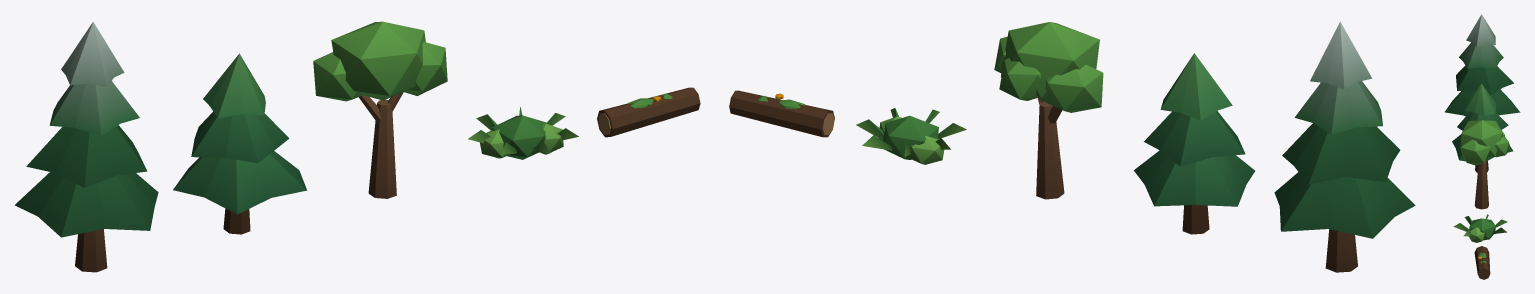
Rendered from forest_trees.glb.
3 views of the same model, side by side, from view 1: azimuth 30°, elevation 25°; view 2: azimuth 150°, elevation 25°; view 3: azimuth 270°, elevation 25° (orthographic). The views are drawn at different scales.
Visible parts, largest first — view 1: PineTreeTall, PineTreeMedium, BroadleafTree, ForestBushFern, FallenMossLog; view 2: PineTreeTall, PineTreeMedium, BroadleafTree, ForestBushFern, FallenMossLog; view 3: PineTreeTall, BroadleafTree, PineTreeMedium, ForestBushFern, FallenMossLog.
Boxes of the visible parts, x1,y1,x2,y2 form: PineTreeTall: (15,22,158,272); PineTreeMedium: (173,53,307,234); BroadleafTree: (313,21,447,198); ForestBushFern: (468,107,578,159); FallenMossLog: (597,87,700,137); PineTreeTall: (1274,21,1415,272); PineTreeMedium: (1134,53,1254,234); BroadleafTree: (994,22,1103,199); ForestBushFern: (856,108,966,164); FallenMossLog: (729,90,834,137); PineTreeTall: (1445,14,1520,116); BroadleafTree: (1460,120,1510,209); PineTreeMedium: (1452,83,1513,172); ForestBushFern: (1453,214,1507,242); FallenMossLog: (1474,246,1490,279).
Size of the model in its own units: 10.86 by 3.84 by 2.17.
